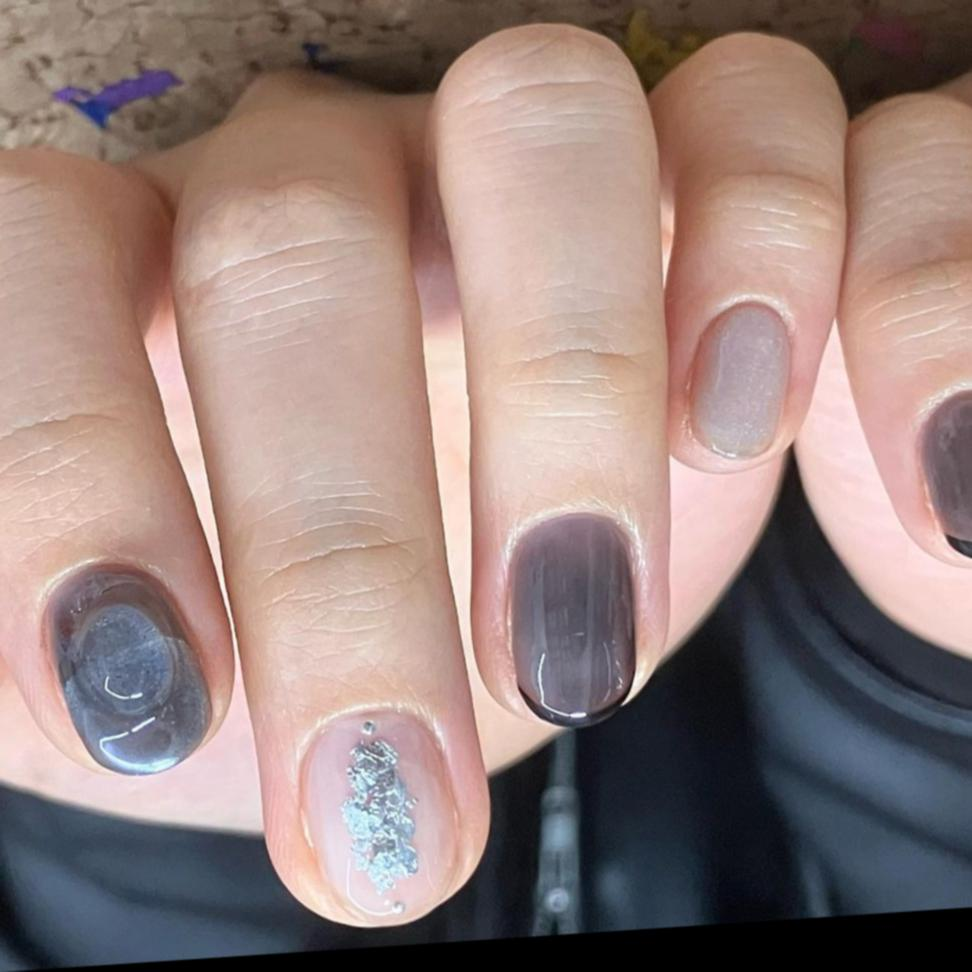nail: (41, 556, 214, 785), (298, 705, 462, 929), (506, 509, 641, 734), (688, 299, 793, 466)
